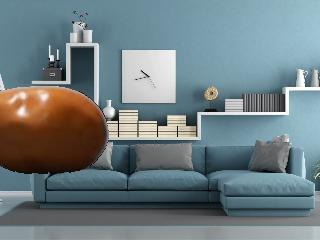potato: (0, 86, 109, 174)
